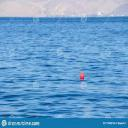red: (80, 73, 84, 80)
